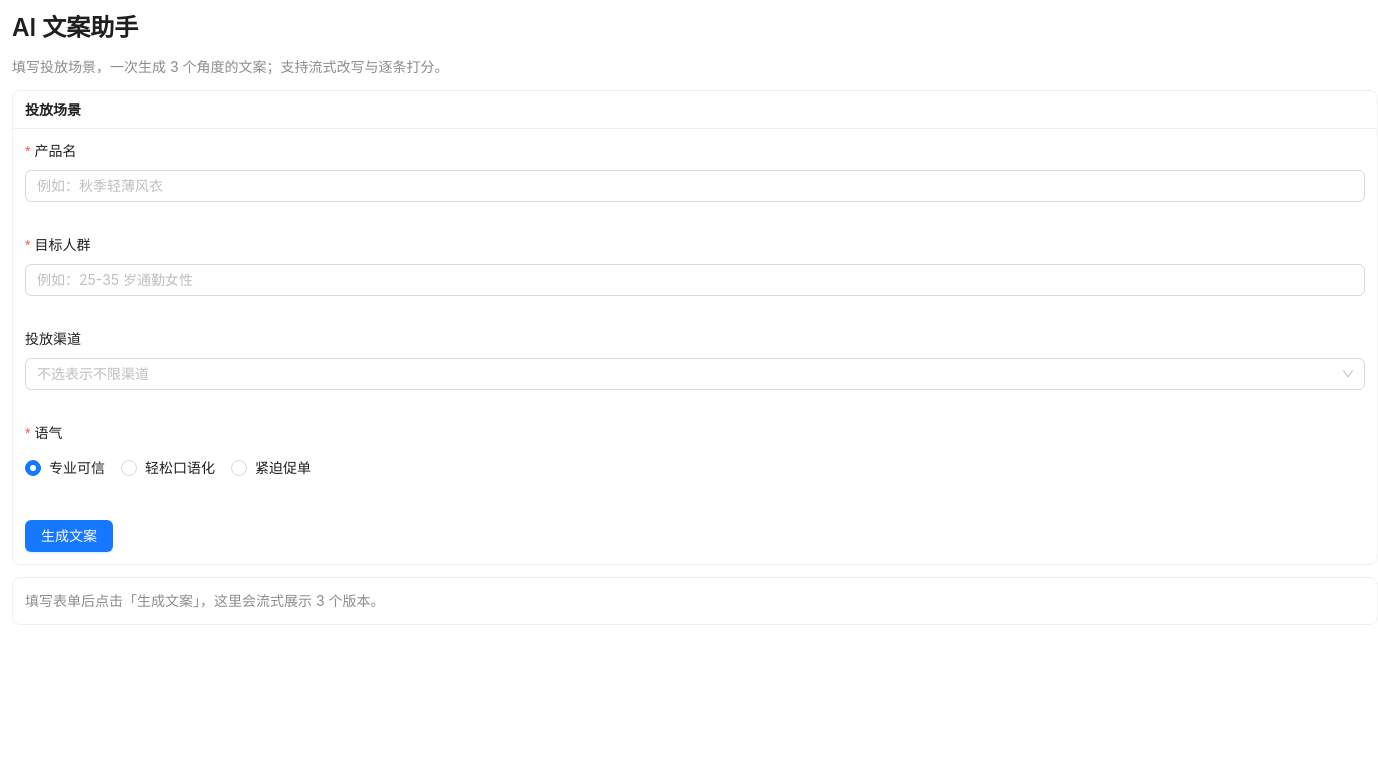
Test case: AiCopilotPage › 可以停止生成并提示保留内容
Type "秋季轻薄风衣" into the field labelled "产品名" at (687, 186), box left=37, top=175, right=1337, bottom=197
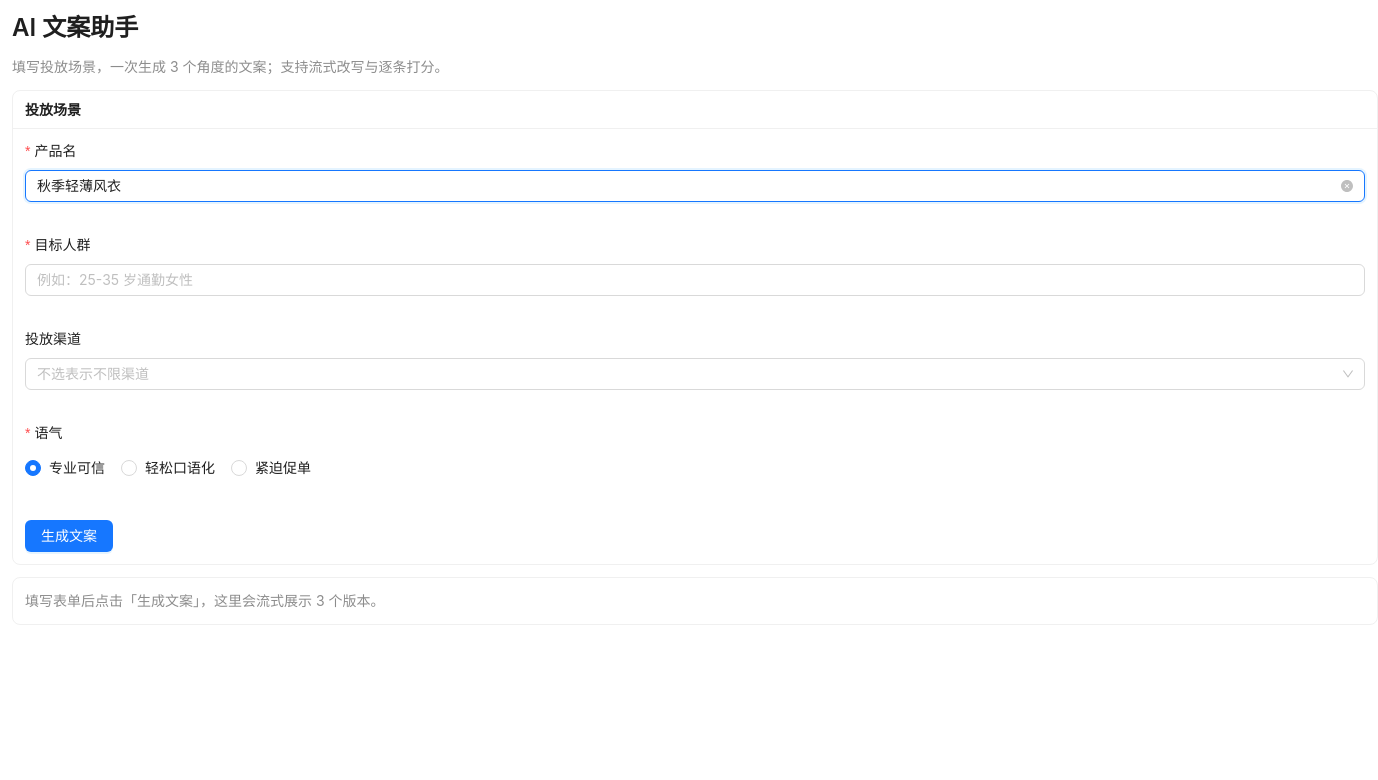
Type "25-35 岁通勤女性" into the field labelled "目标人群" at (687, 280), box left=37, top=269, right=1337, bottom=291
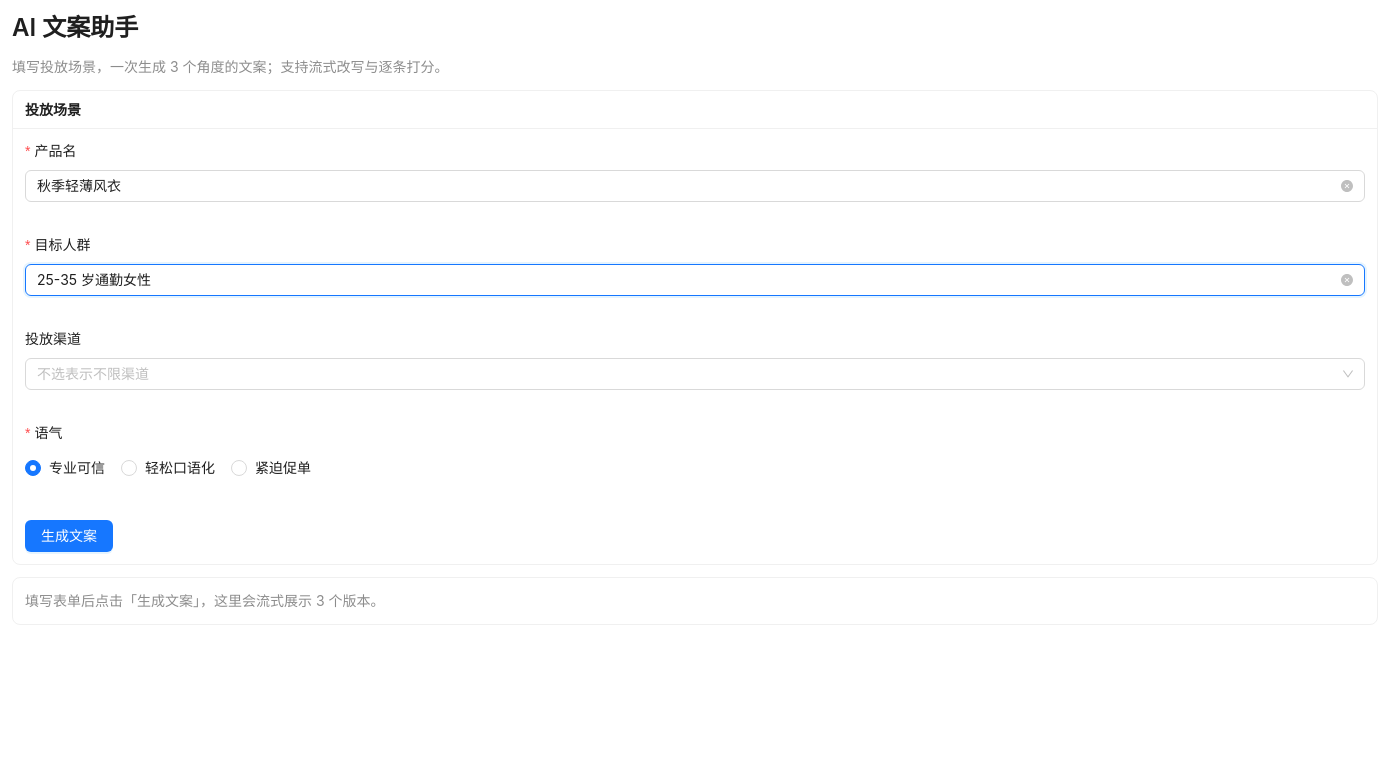
Click the button "生成文案" at (69, 536), box left=25, top=520, right=113, bottom=552
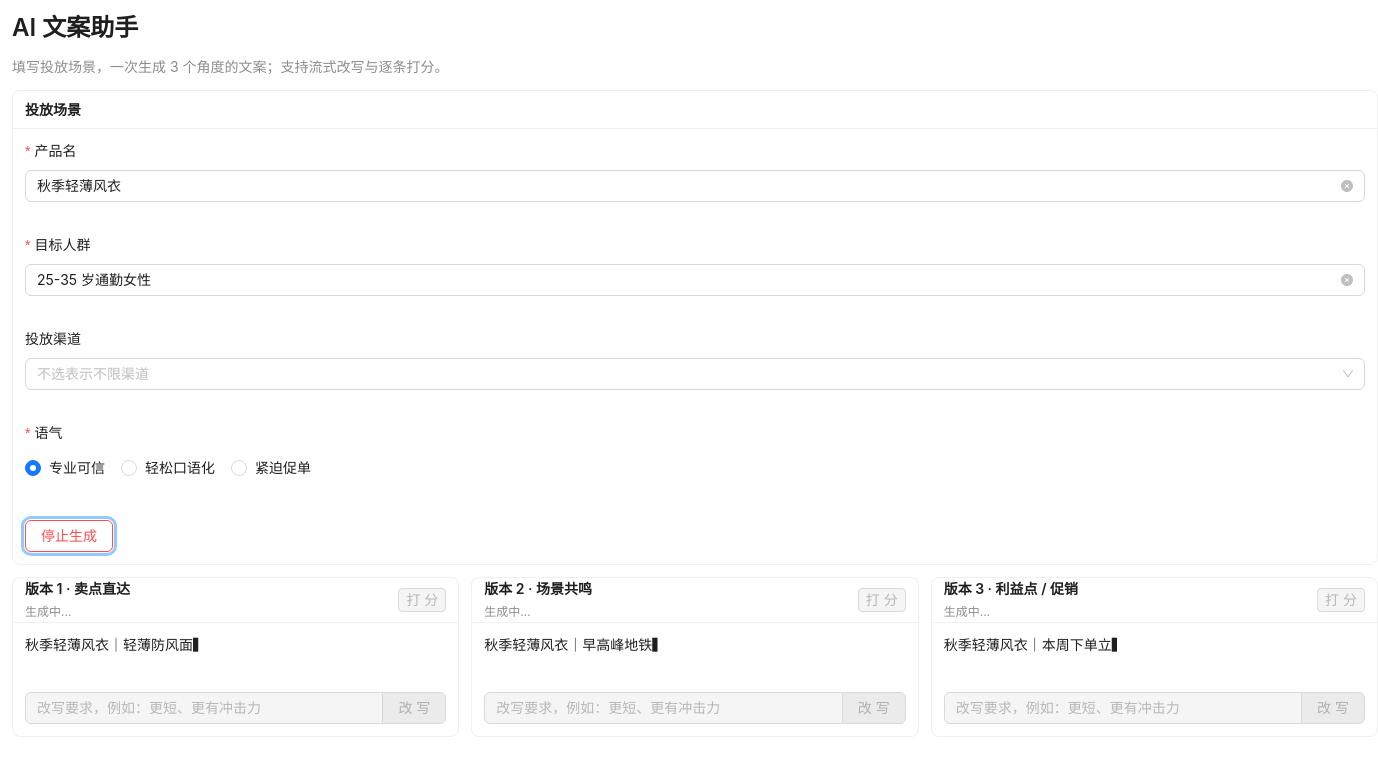
Click the button "停止生成" at (69, 536), box left=25, top=520, right=113, bottom=552
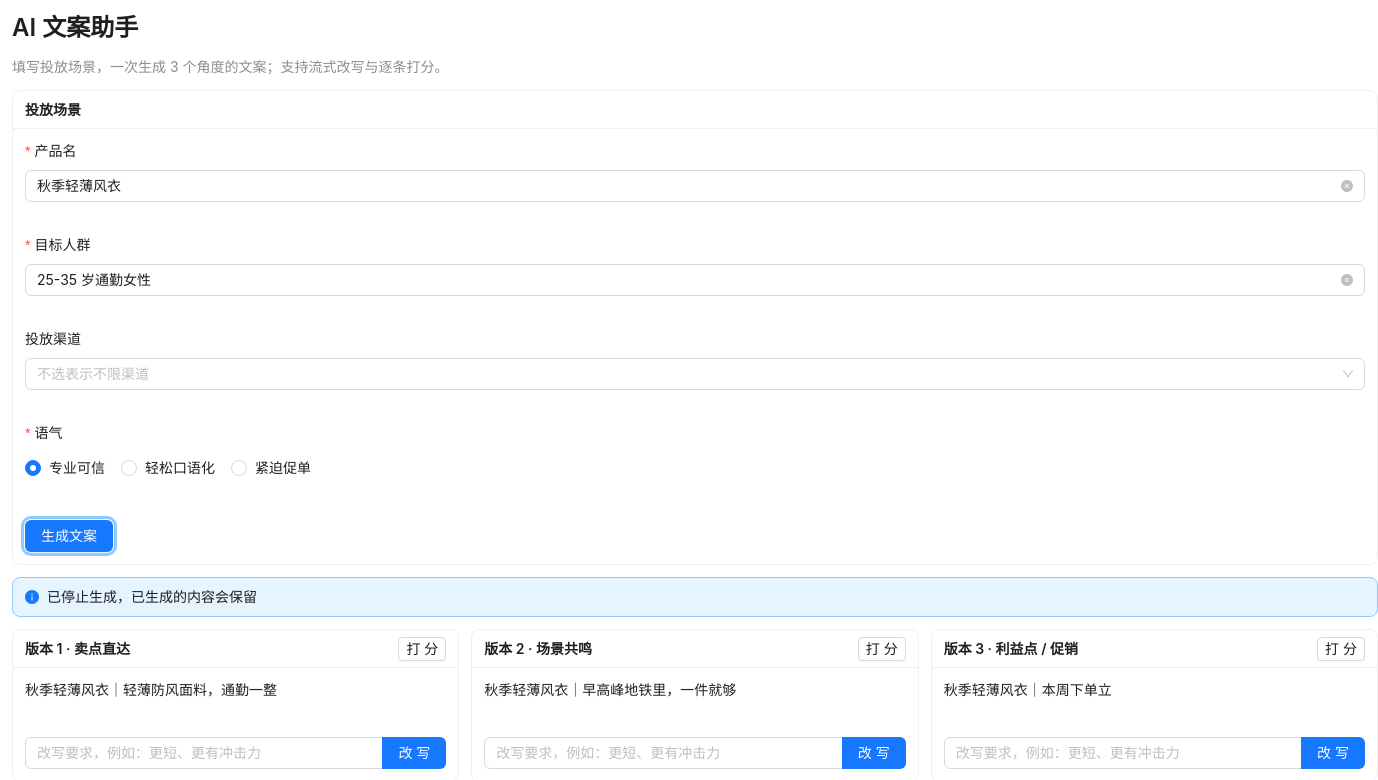
Now the text "已停止生成，已生成的内容会保留" is shown, box left=47, top=588, right=257, bottom=605
